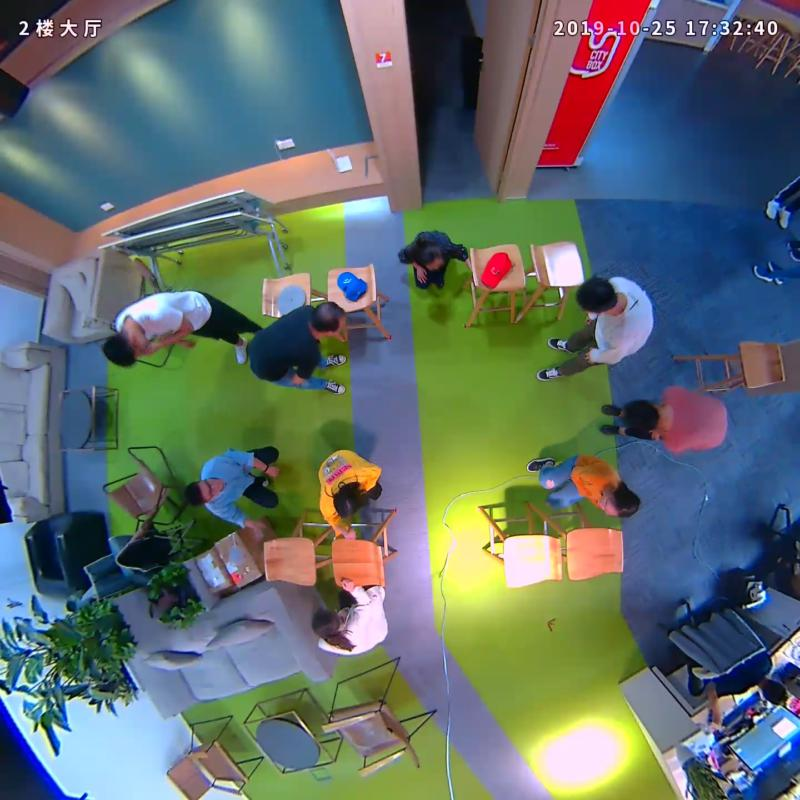head: (569, 271, 628, 318), (617, 395, 669, 442), (595, 479, 648, 523), (299, 298, 349, 343), (92, 330, 143, 372), (305, 601, 348, 642), (178, 472, 222, 511), (408, 238, 450, 274), (327, 483, 368, 517)
